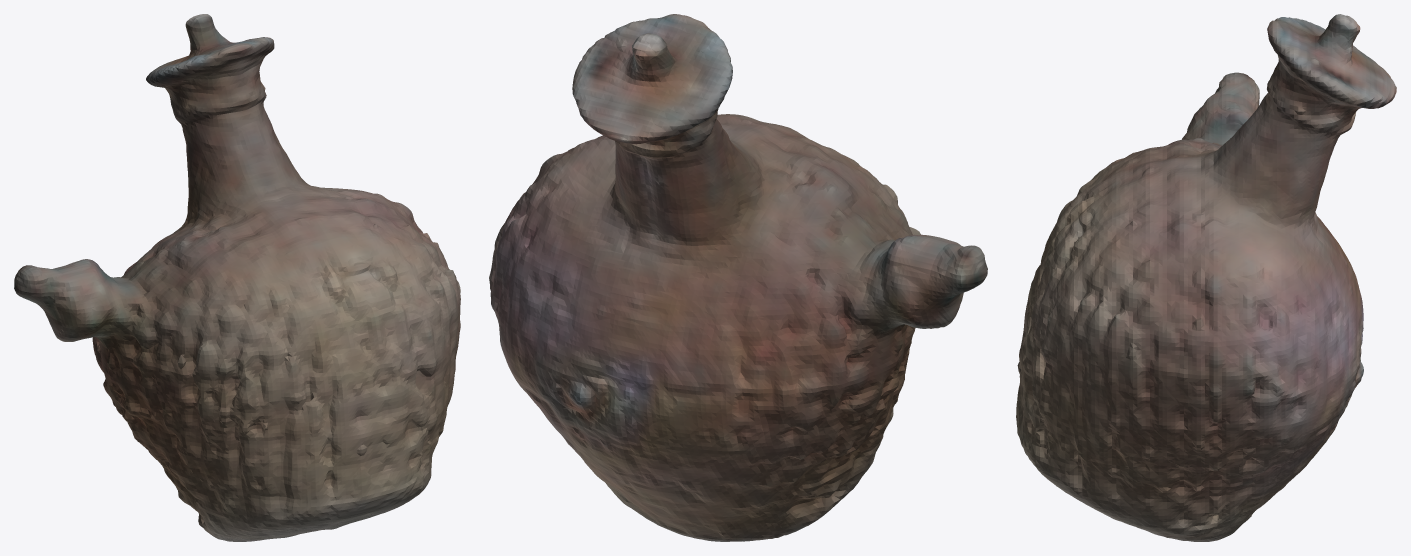
Rendered from riau.glb.
The picture shows the model from 3 angles, left to right: view 1: azimuth 30°, elevation 25°; view 2: azimuth 150°, elevation 25°; view 3: azimuth 270°, elevation 25°; orthographic projection. The views are drawn at different scales.
Visible parts, largest first — view 1: world; view 2: world; view 3: world.
Boxes of the visible parts, x1,y1,x2,y2 form: world: (14,14,460,541); world: (489,14,987,541); world: (1016,14,1396,541).
Size of the model in its own units: 0.8141 by 0.8833 by 0.6143.
